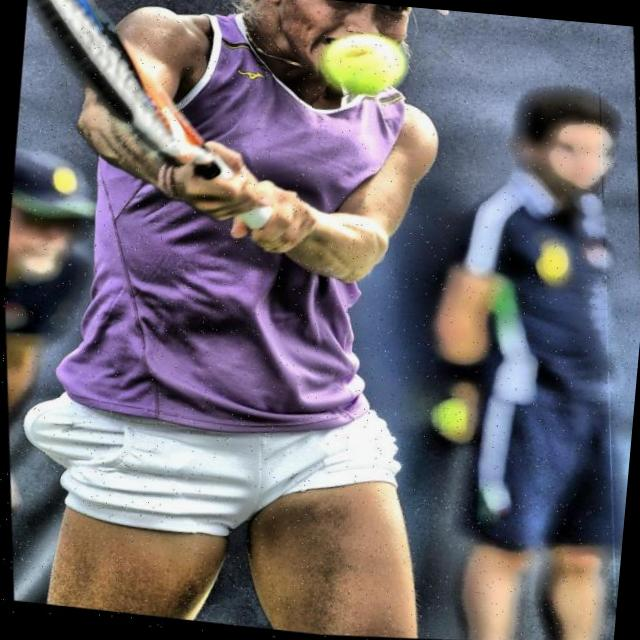Tennis Ball: (308, 25, 415, 108), (429, 394, 468, 436)
